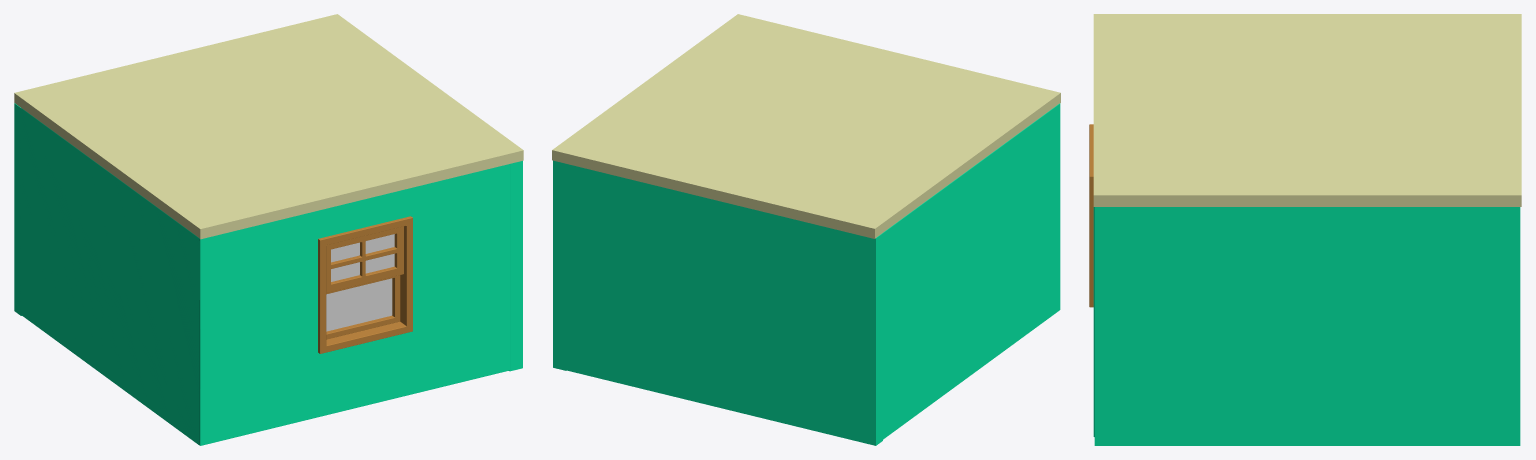
Rendered from House.fbx.
3 renders of one model, left to right at view 1: azimuth 30°, elevation 25°; view 2: azimuth 150°, elevation 25°; view 3: azimuth 270°, elevation 25°, orthographic. The views are drawn at different scales.
Parts seen in each view (by area): view 1: Wall, Ceiling, Window; view 2: Wall, Ceiling; view 3: Wall, Ceiling, Window.
Boxes of the visible parts, <box> form: Wall: <box>14,103,522,445</box>; Ceiling: <box>14,14,523,239</box>; Window: <box>318,216,412,353</box>; Wall: <box>553,103,1060,445</box>; Ceiling: <box>552,14,1060,238</box>; Wall: <box>1093,207,1520,445</box>; Ceiling: <box>1093,14,1521,206</box>; Window: <box>1089,124,1093,307</box>.
Bounding box in the file's own units: 873 × 562 × 878.
